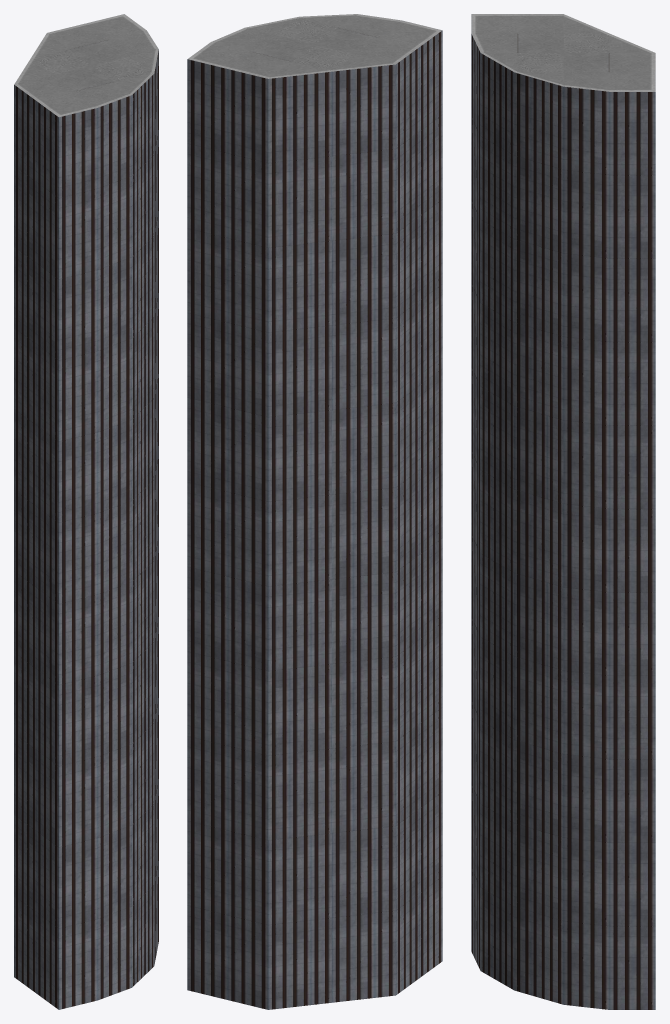
Rendered from building_-_quarter_arc.glb.
The picture shows the model from 3 angles, left to right: view 1: azimuth 30°, elevation 25°; view 2: azimuth 150°, elevation 25°; view 3: azimuth 270°, elevation 25°; orthographic projection. The views are drawn at different scales.
Parts seen in each view (by area): view 1: Building_quarterArc; view 2: Building_quarterArc; view 3: Building_quarterArc.
Part boxes in pixels (<box>): Building_quarterArc: <box>14,14,158,1009</box>; Building_quarterArc: <box>187,14,442,1009</box>; Building_quarterArc: <box>471,14,655,1009</box>.
Size of the model in its own units: 30 by 165 by 30.
1 material, 1 textured.
